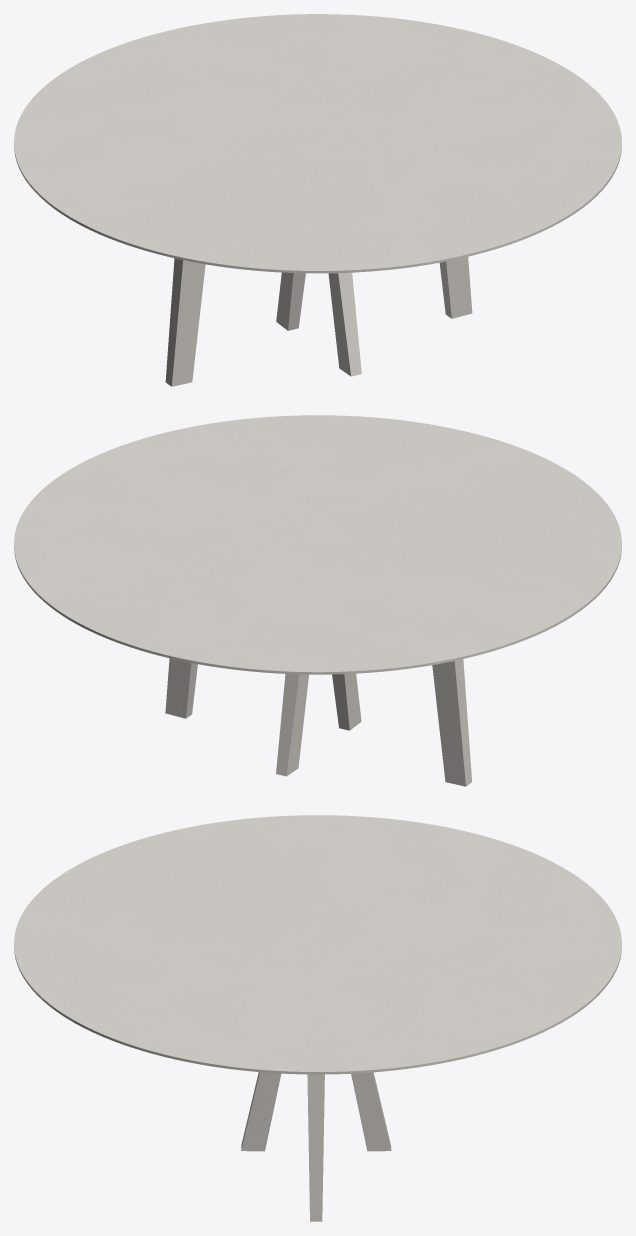
File: pearlwhite_round_facet_searwalnut.glb
3 views of the same model, one above another, from view 1: azimuth 30°, elevation 25°; view 2: azimuth 150°, elevation 25°; view 3: azimuth 270°, elevation 25° (orthographic).
Visible parts, largest first — view 1: facet_round, searwalnut; view 2: facet_round, searwalnut; view 3: facet_round, searwalnut.
Boxes of the visible parts, x1,y1,x2,y2 form: facet_round: (14, 14, 621, 273); searwalnut: (165, 257, 472, 386); facet_round: (14, 415, 621, 674); searwalnut: (165, 658, 471, 786); facet_round: (14, 815, 621, 1074); searwalnut: (241, 1072, 391, 1221).
Size of the model in its own units: 6.75 by 2.51 by 6.75.
1 material, 1 textured.
